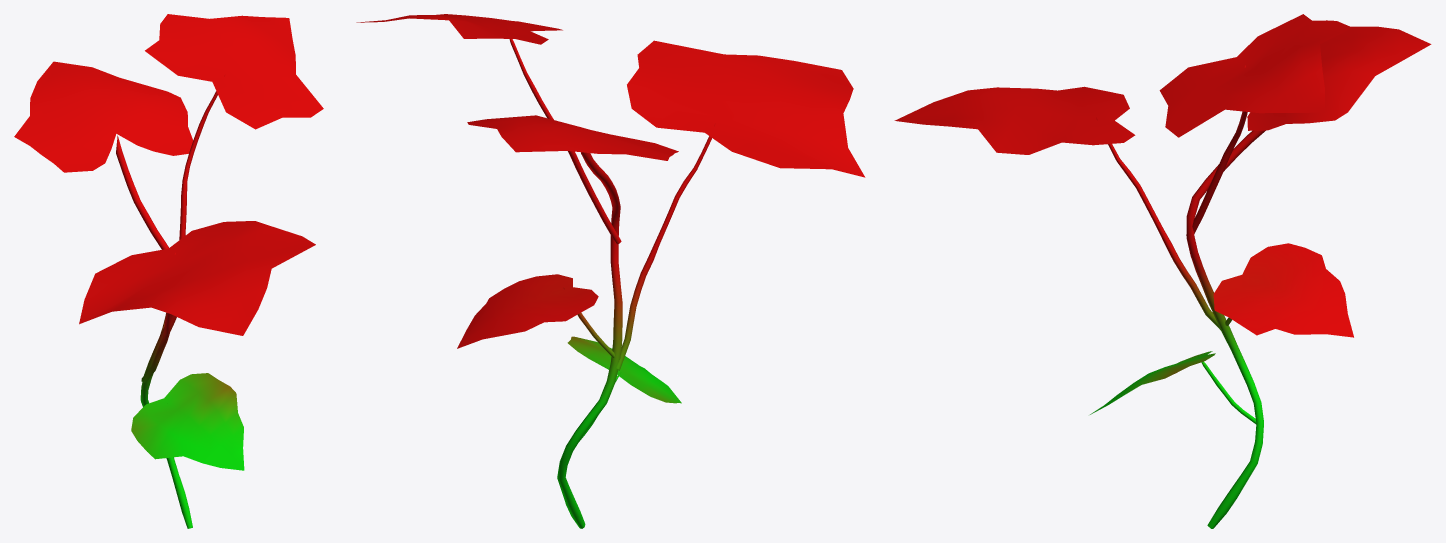
The model's file is Var9_LOD0.fbx.
3 renders of one model, left to right at view 1: azimuth 30°, elevation 25°; view 2: azimuth 150°, elevation 25°; view 3: azimuth 270°, elevation 25°, orthographic. The views are drawn at different scales.
Parts seen in each view (by area): view 1: _8m3e_Var9_LOD0; view 2: _8m3e_Var9_LOD0; view 3: _8m3e_Var9_LOD0.
Boxes of the visible parts, x1,y1,x2,y2 form: _8m3e_Var9_LOD0: (14, 14, 323, 528); _8m3e_Var9_LOD0: (356, 14, 865, 528); _8m3e_Var9_LOD0: (894, 14, 1431, 528).
Bounding box in the file's own units: 14.03 × 18.82 × 17.52.
